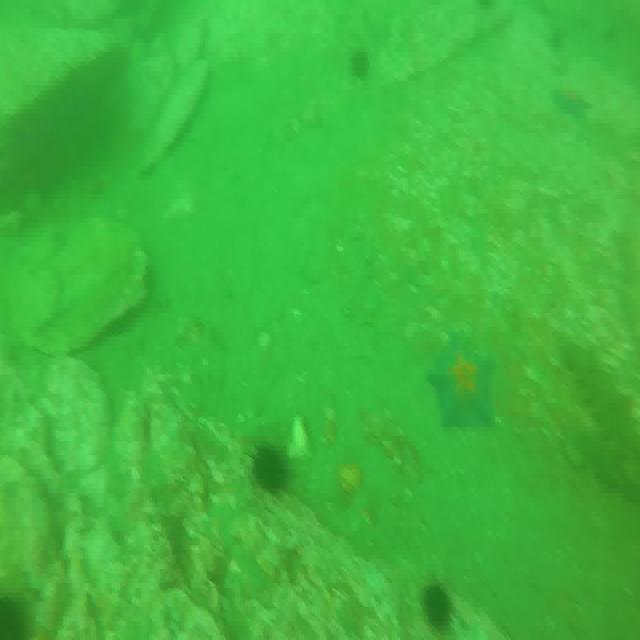echinus: (252, 440, 290, 497), (420, 579, 457, 635), (0, 596, 41, 640), (352, 50, 373, 82)
holothurian: (564, 338, 640, 450)
starfish: (428, 332, 494, 428), (550, 80, 593, 120)
